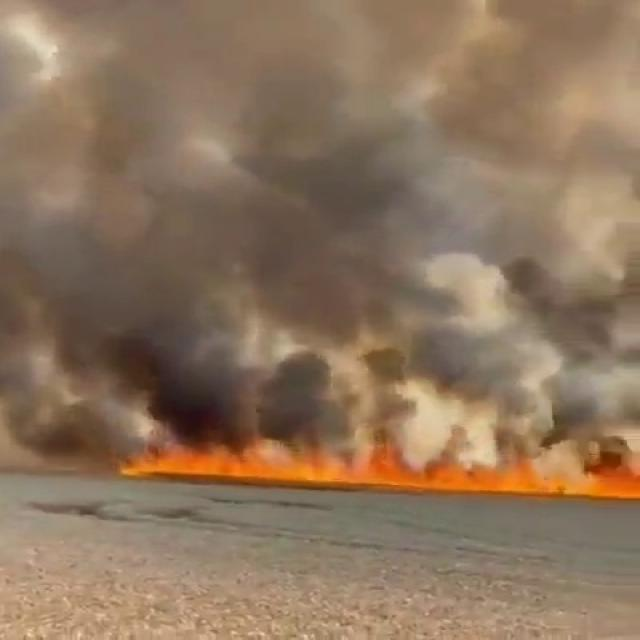Fire: (133, 444, 640, 504)
